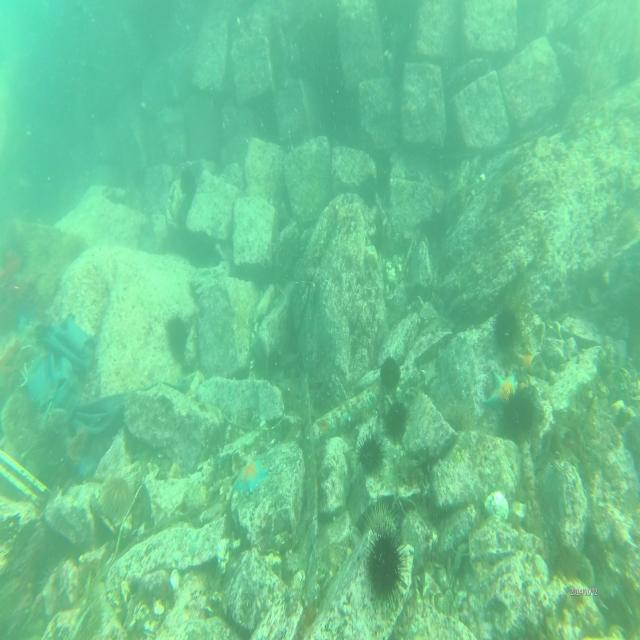echinus: (360, 528, 411, 607), (360, 499, 401, 546), (503, 386, 537, 440), (354, 428, 385, 478), (99, 478, 135, 514), (492, 305, 517, 352), (383, 396, 410, 436), (380, 352, 401, 391)
scallop: (484, 486, 509, 529)
starfish: (484, 367, 520, 416), (233, 458, 268, 495)
